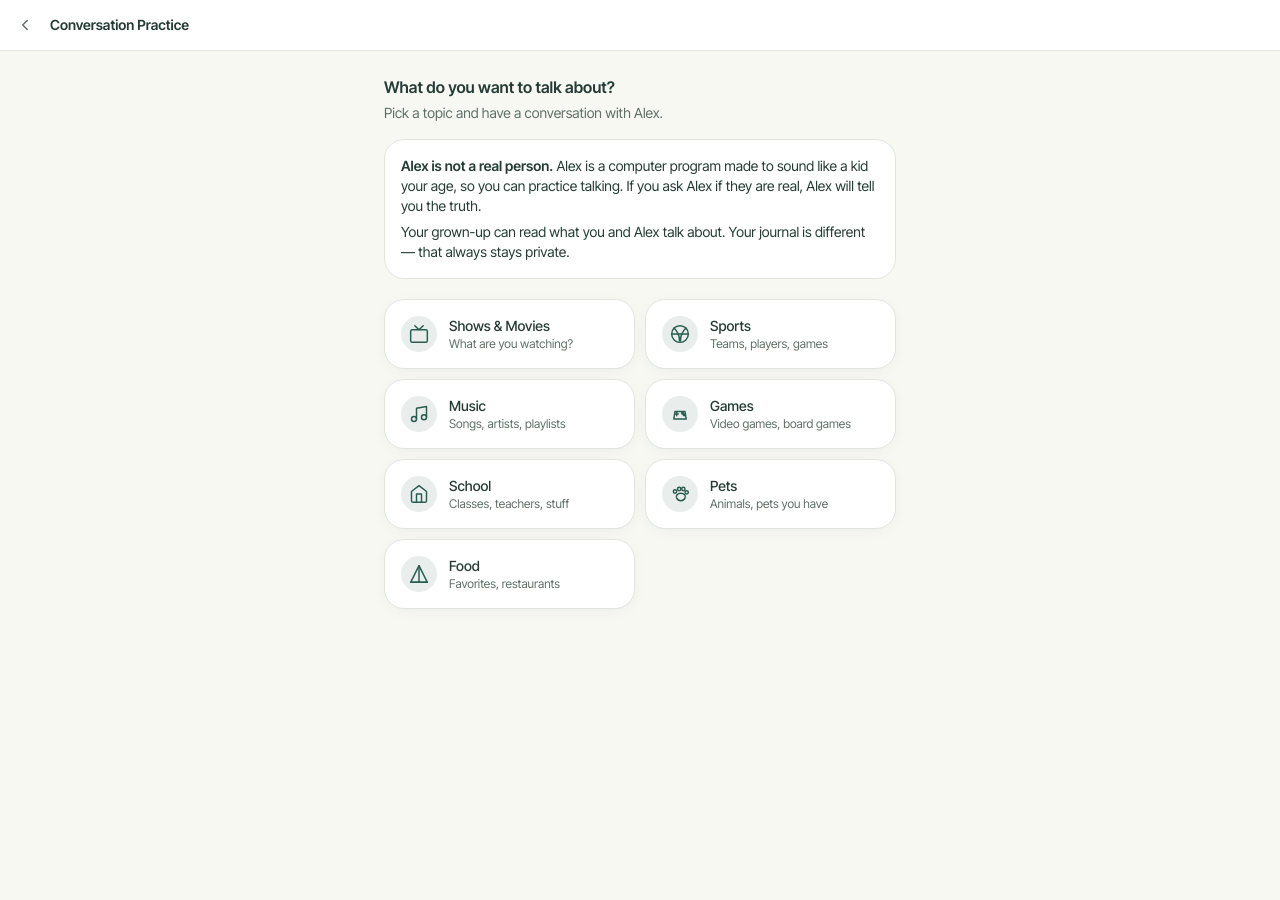
Test: starts the Sports topic using its ID
The width and height of the screenshot is (1280, 900).
Click the button "Sports Teams, players, games": (770, 334) [645, 299, 896, 369]
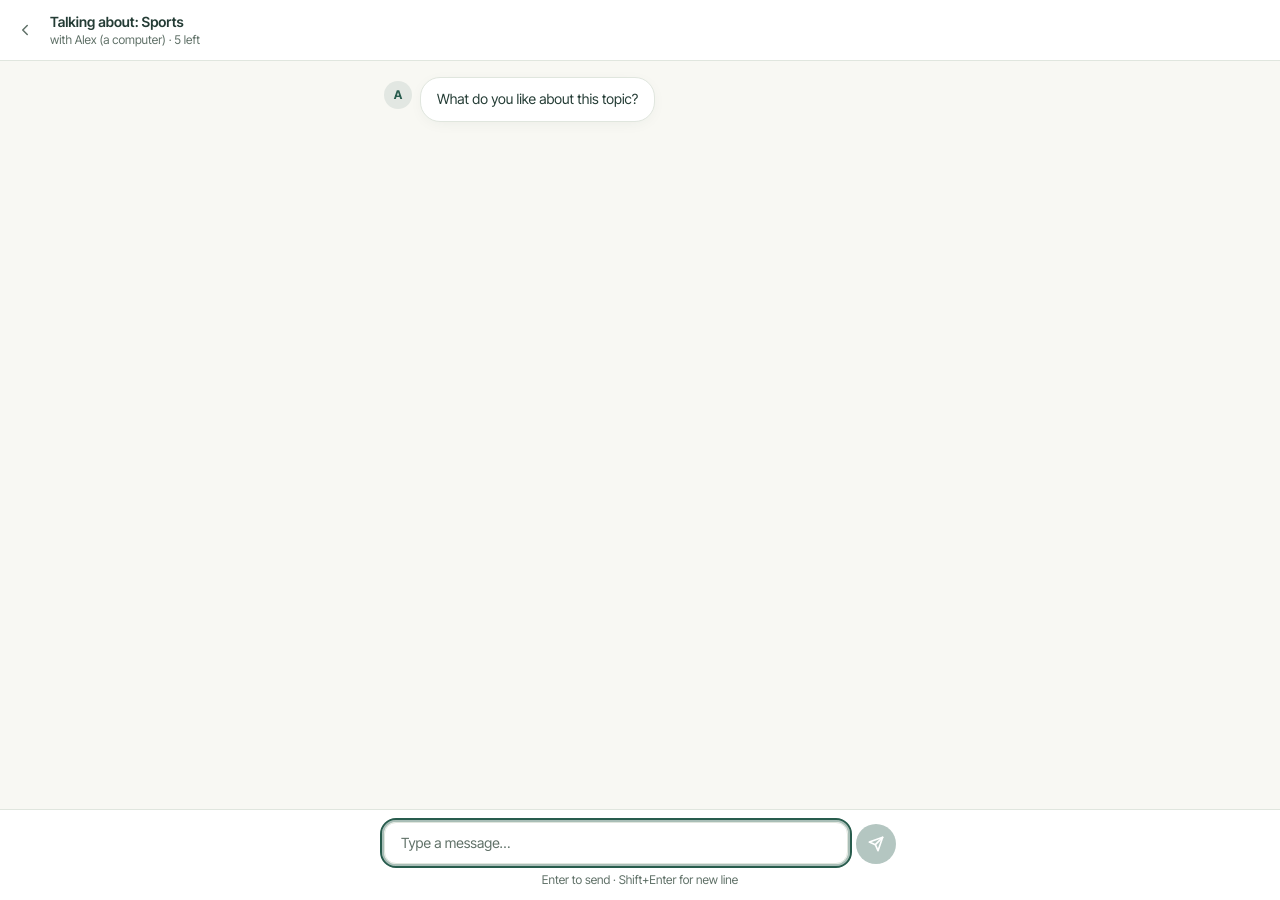
Now the text "What do you like about this topic?" is shown, box [420, 77, 655, 122]
